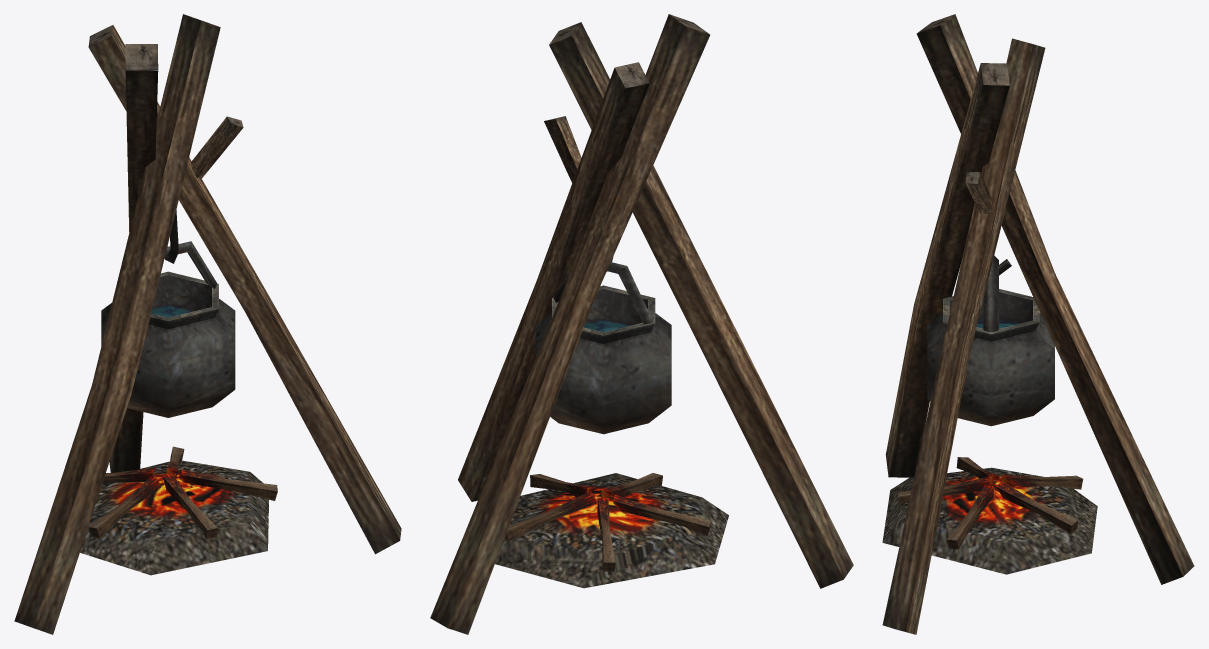
Rendered from SC_yonghengsenlin_06.FBX.
The picture shows the model from 3 angles, left to right: view 1: azimuth 30°, elevation 25°; view 2: azimuth 150°, elevation 25°; view 3: azimuth 270°, elevation 25°; orthographic projection. The views are drawn at different scales.
Parts seen in each view (by area): view 1: SC_yonghengsenlin_06; view 2: SC_yonghengsenlin_06; view 3: SC_yonghengsenlin_06.
Boxes of the visible parts, x1,y1,x2,y2 form: SC_yonghengsenlin_06: (14, 14, 401, 634); SC_yonghengsenlin_06: (430, 14, 853, 634); SC_yonghengsenlin_06: (882, 14, 1194, 634).
Size of the model in its own units: 182 by 246 by 135.
